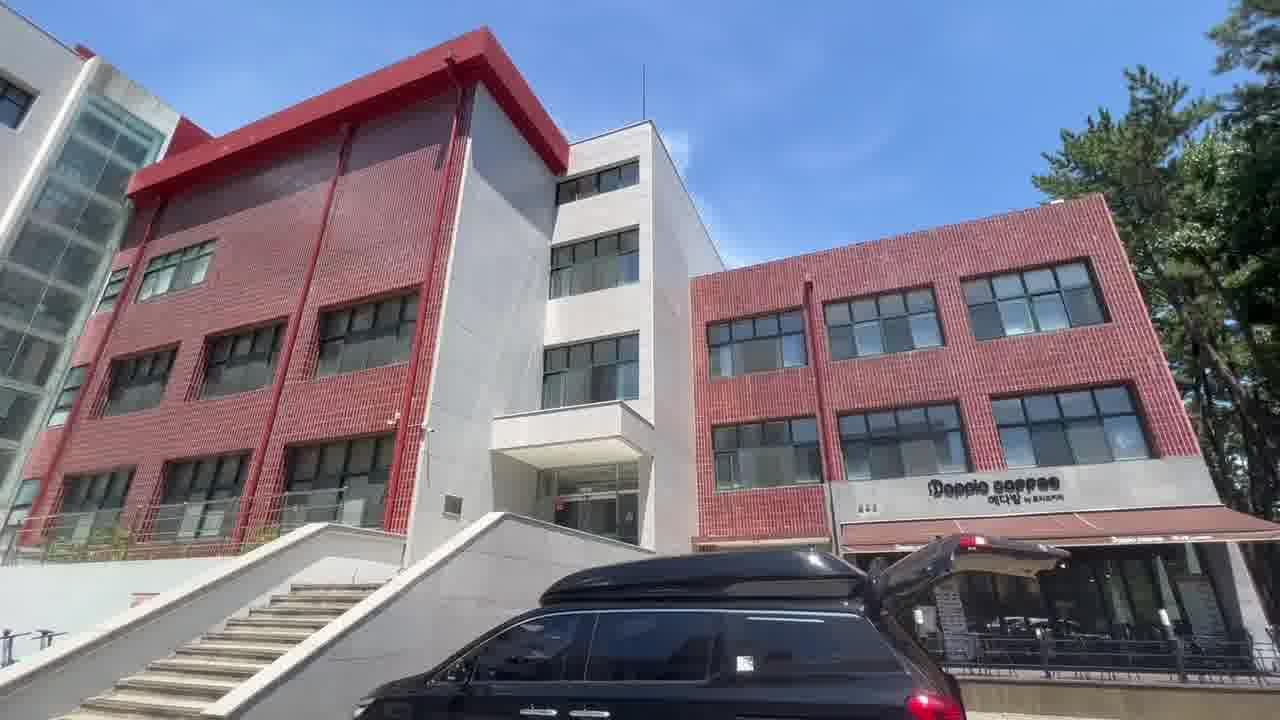building: (0, 2, 1158, 579)
